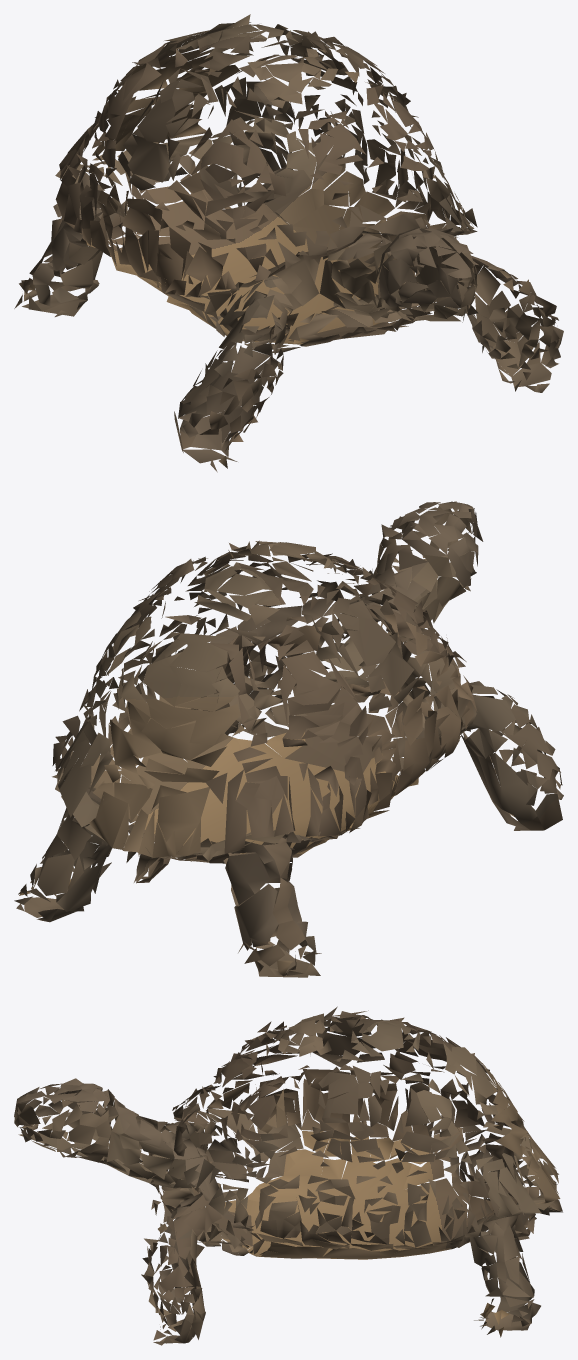
The model's file is tortoise.glb.
The picture shows the model from 3 angles, top to bottom: view 1: azimuth 30°, elevation 25°; view 2: azimuth 150°, elevation 25°; view 3: azimuth 270°, elevation 25°; orthographic projection. The views are drawn at different scales.
Parts seen in each view (by area): view 1: LO.001; view 2: LO.001; view 3: LO.001.
Part boxes in pixels (x1,y1,x2,y2): LO.001: [14, 14, 563, 472]; LO.001: [14, 501, 563, 977]; LO.001: [14, 1006, 562, 1345].
Bounding box in the file's own units: 1.28 × 0.9899 × 1.9.
Materials: 1 (1 with a texture image).
